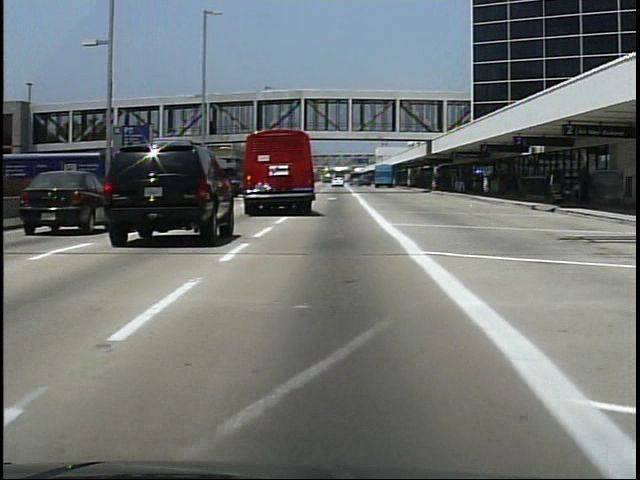car: (104, 131, 238, 251), (230, 113, 330, 222), (17, 167, 105, 235)
